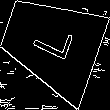L_W: (26, 20, 76, 67)
